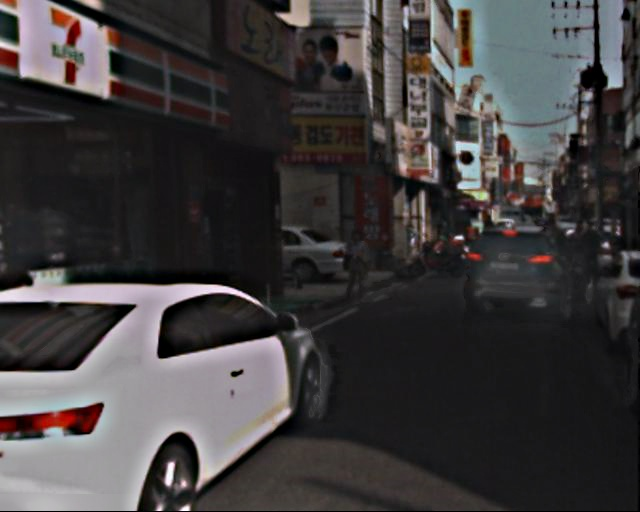person: (344, 229, 378, 311), (579, 222, 607, 290)
